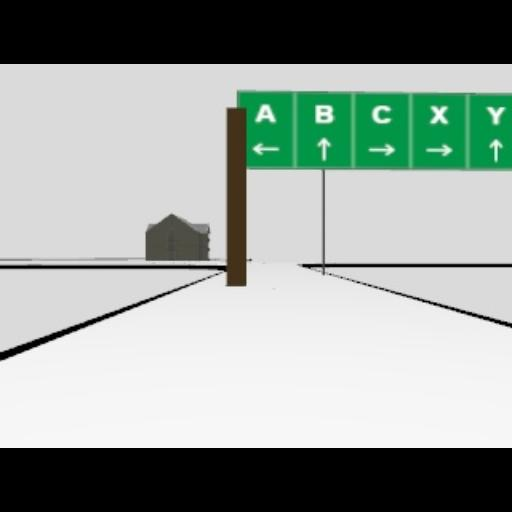A: (254, 102, 276, 124)
B: (314, 104, 332, 124)
C: (372, 104, 392, 124)
Left: (252, 142, 280, 156)
Right: (366, 142, 396, 156), (424, 143, 452, 157)
Straight: (317, 136, 331, 160), (488, 138, 502, 160)
X: (428, 104, 448, 124)
Y: (484, 106, 506, 124)
